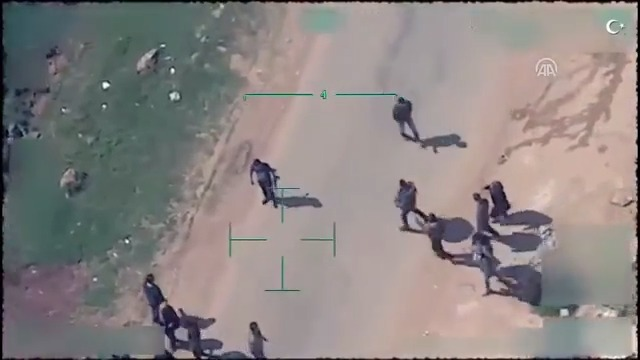insan: (394, 175, 431, 231), (421, 213, 458, 264), (246, 154, 279, 208), (387, 96, 420, 144), (140, 270, 165, 328), (246, 313, 275, 360), (468, 187, 493, 234)
